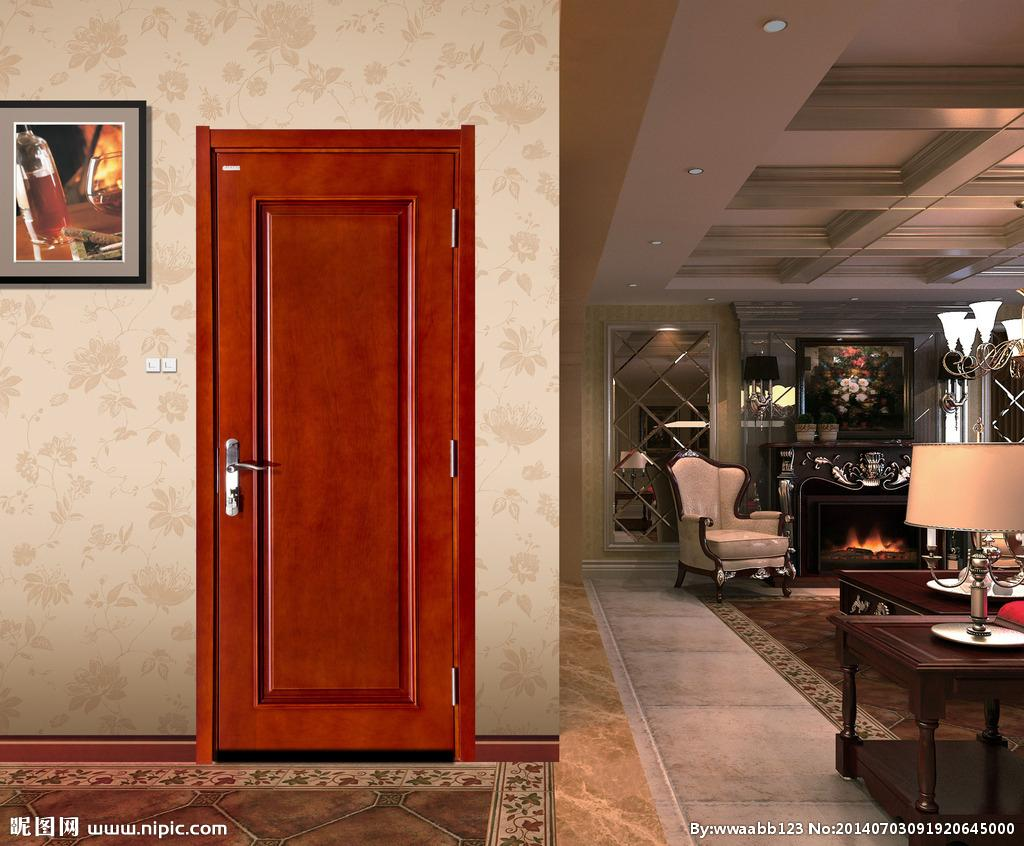door: (207, 143, 454, 744)
